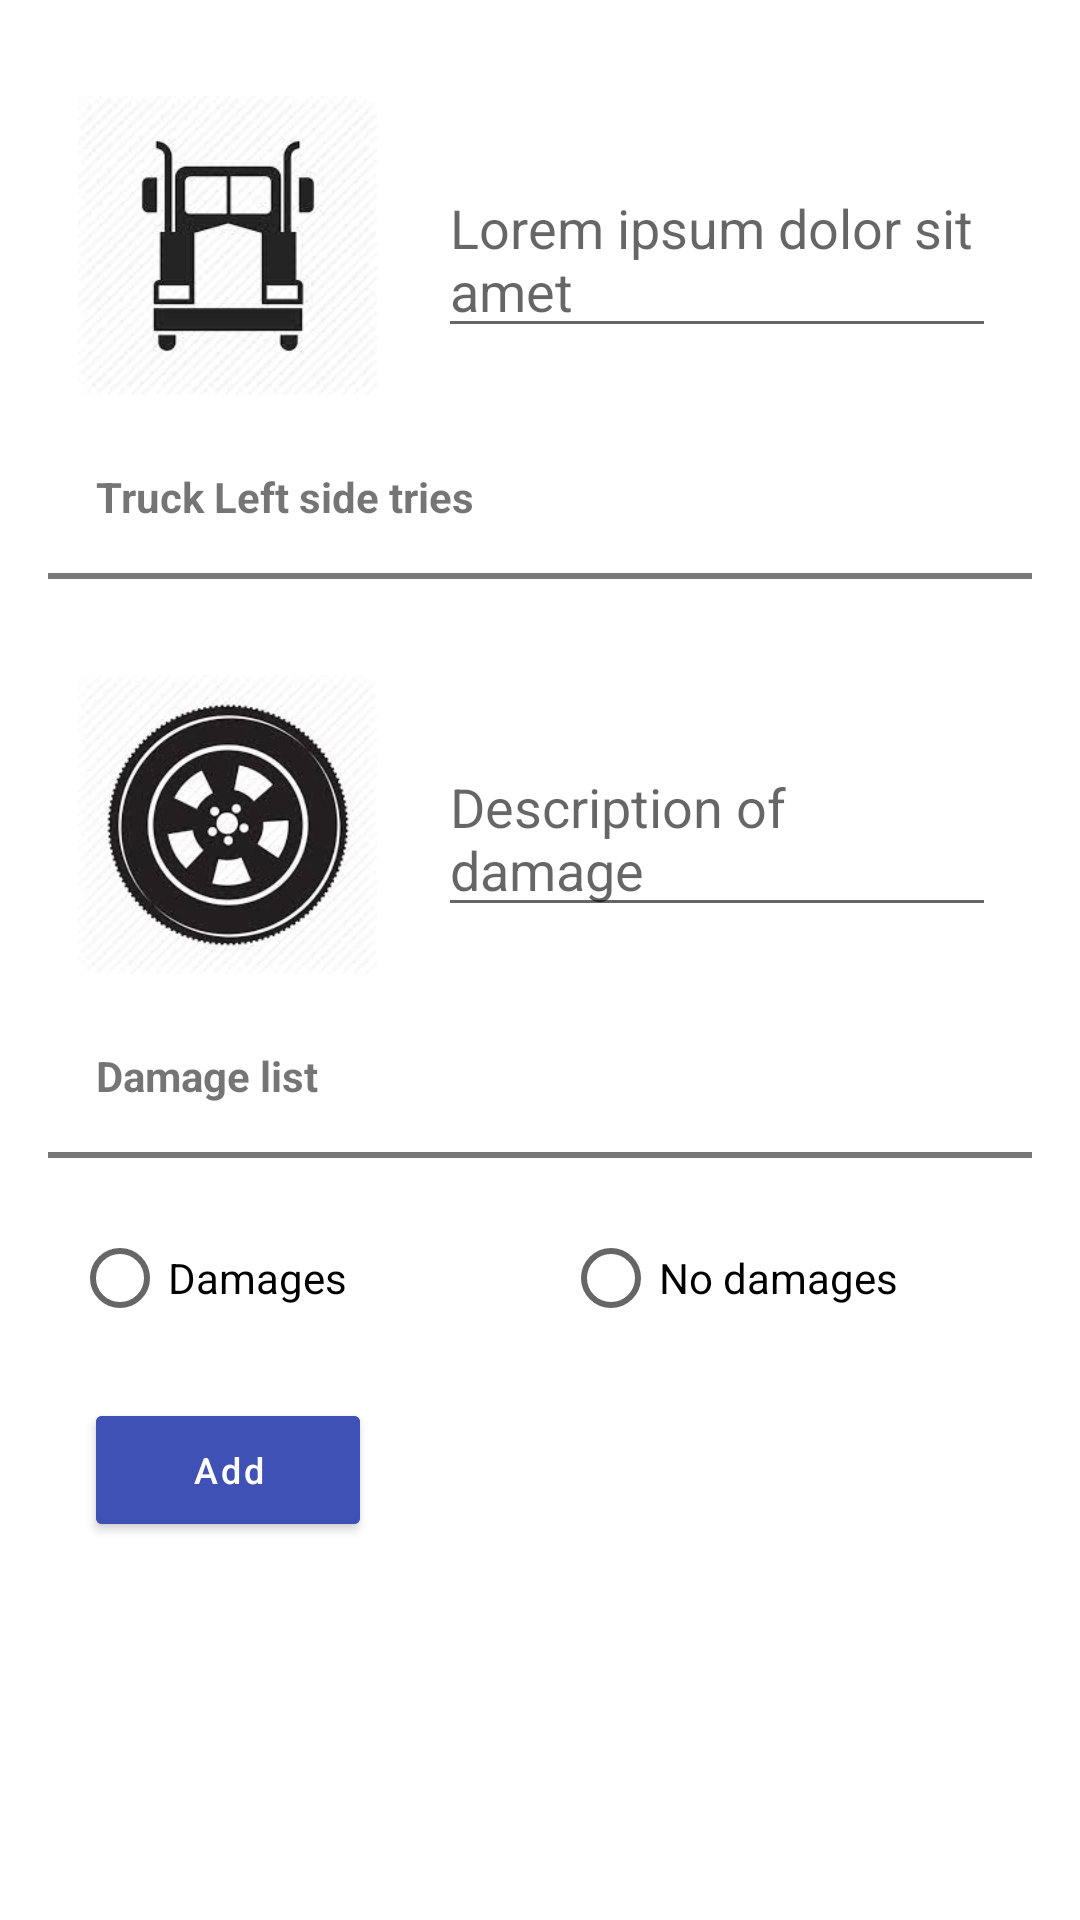

Screen size 1080 × 1920. Icon name, then its center in pixels as [x,y]:
tire: [228,825]
